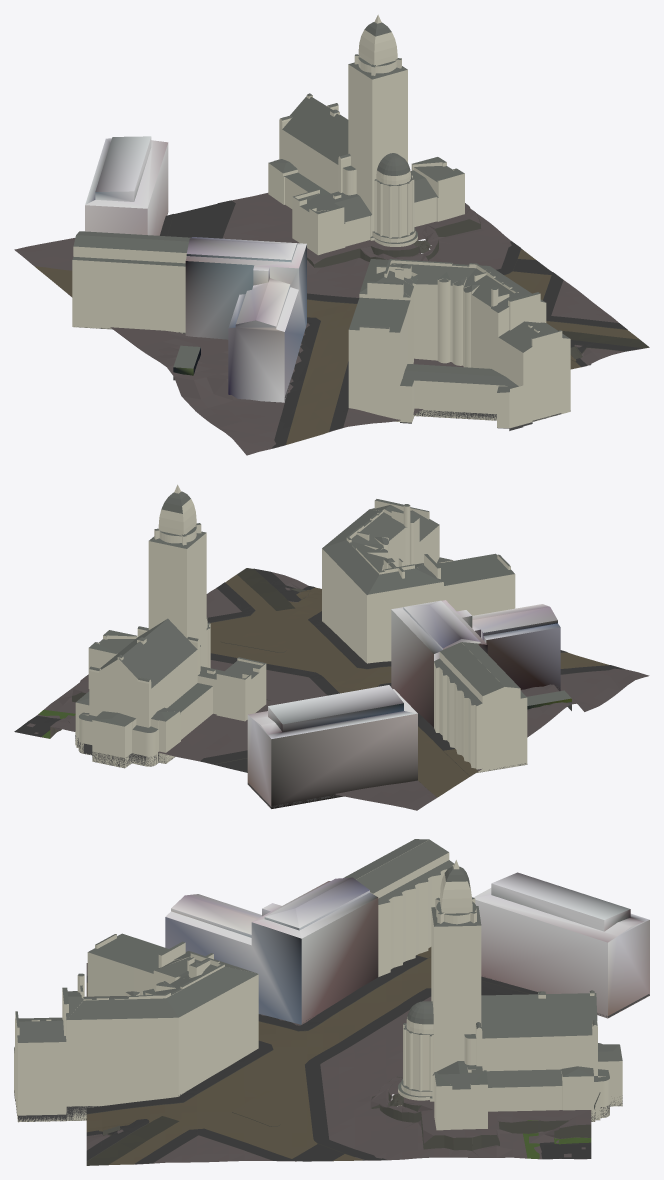
3 views of the same model, one above another, from view 1: azimuth 30°, elevation 25°; view 2: azimuth 150°, elevation 25°; view 3: azimuth 270°, elevation 25° (orthographic). The views are drawn at different scales.
Parts seen in each view (by area): view 1: c_m02_m13; view 2: c_m02_m13; view 3: c_m02_m13.
Boxes of the visible parts, x1=… form: c_m02_m13: x1=14, y1=14, x2=649, y2=455; c_m02_m13: x1=14, y1=484, x2=649, y2=810; c_m02_m13: x1=14, y1=839, x2=649, y2=1165.
Size of the model in its own units: 136 by 75.79 by 161.
